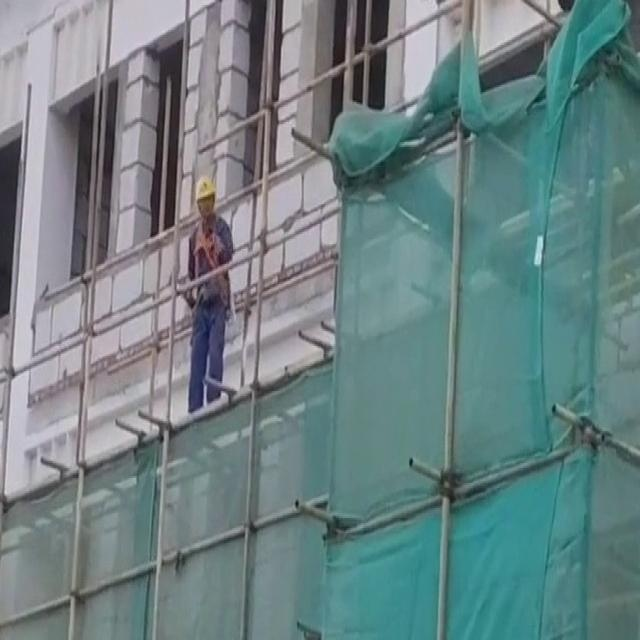Arnes_seguridad: (192, 212, 222, 279)
